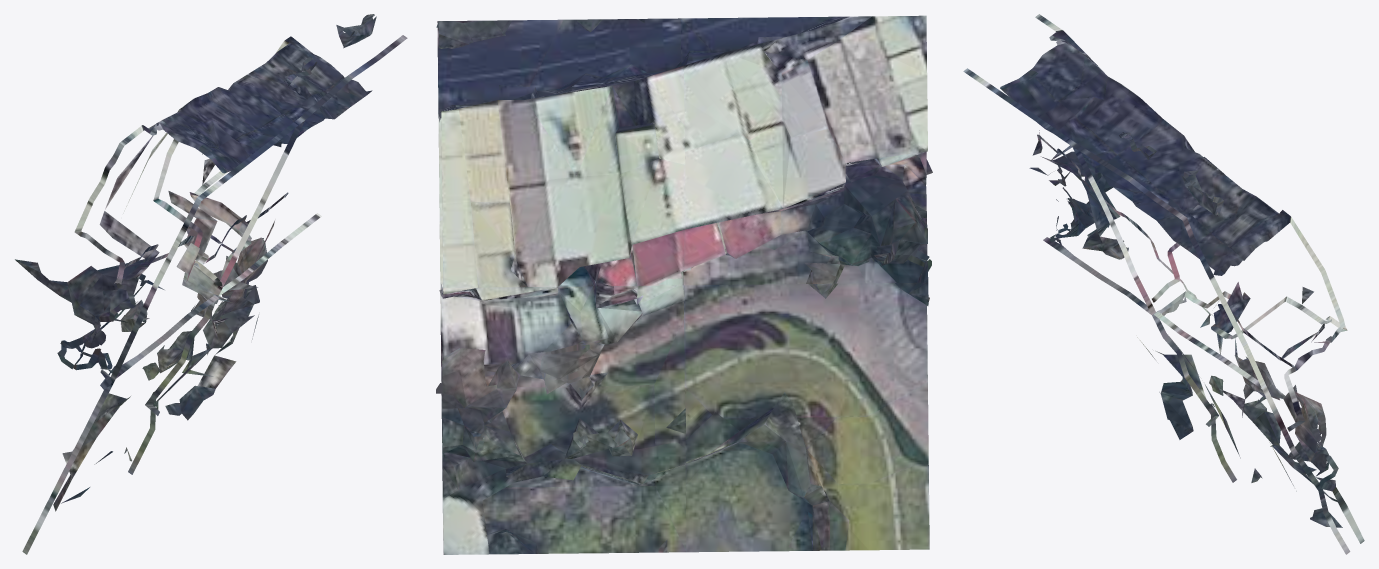
3 views of the same model, side by side, from view 1: azimuth 30°, elevation 25°; view 2: azimuth 150°, elevation 25°; view 3: azimuth 270°, elevation 25° (orthographic). The views are drawn at different scales.
Bounding box in the file's own units: 75.94 × 76.53 × 66.77.
Materials: 2 (2 with a texture image).
